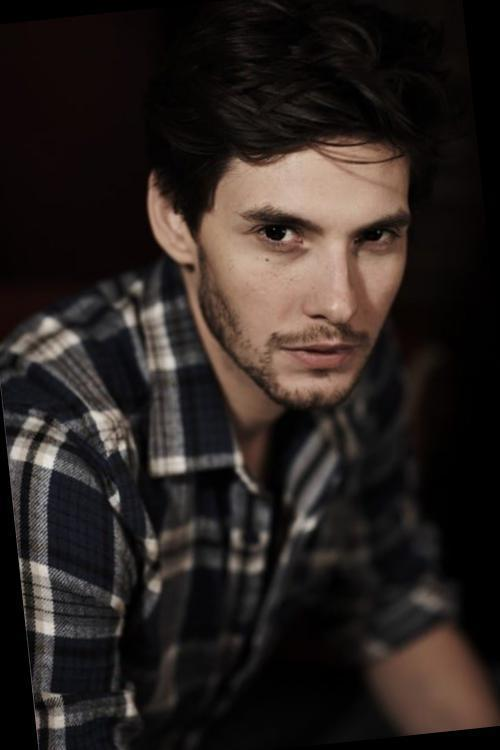Sober: (209, 160, 404, 397)
